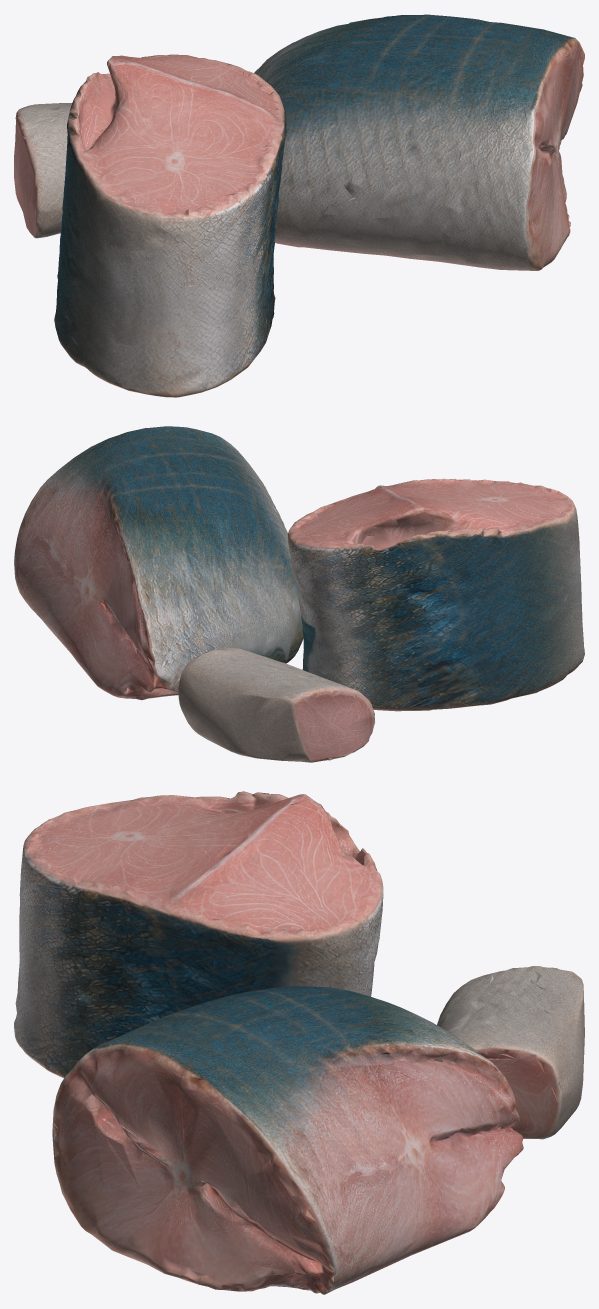
The model's file is jurel-antes.glb.
3 views of the same model, one above another, from view 1: azimuth 30°, elevation 25°; view 2: azimuth 150°, elevation 25°; view 3: azimuth 270°, elevation 25° (orthographic). The views are drawn at different scales.
Visible parts, largest first — view 1: Trozo mediano, Trozo grande, Trozo pequeño; view 2: Trozo grande, Trozo mediano, Trozo pequeño; view 3: Trozo mediano, Trozo grande, Trozo pequeño.
Boxes of the visible parts, <box> form: Trozo mediano: <box>254,14,584,270</box>; Trozo grande: <box>54,54,286,397</box>; Trozo pequeño: <box>14,103,72,238</box>; Trozo grande: <box>287,478,584,711</box>; Trozo mediano: <box>14,426,303,700</box>; Trozo pequeño: <box>178,648,374,762</box>; Trozo mediano: <box>52,986,523,1294</box>; Trozo grande: <box>14,791,383,1078</box>; Trozo pequeño: <box>437,966,584,1139</box>.
Bounding box in the file's own units: 1.9 × 0.7435 × 1.44.
1 material, 1 textured.
